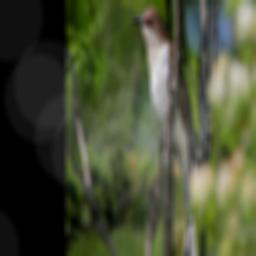Cuckoo: (130, 4, 200, 256)
